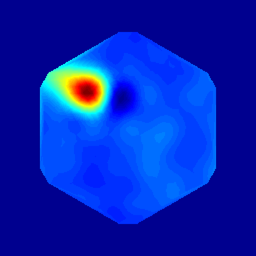ship: (102, 86, 130, 110)
wave: (48, 70, 110, 104)
